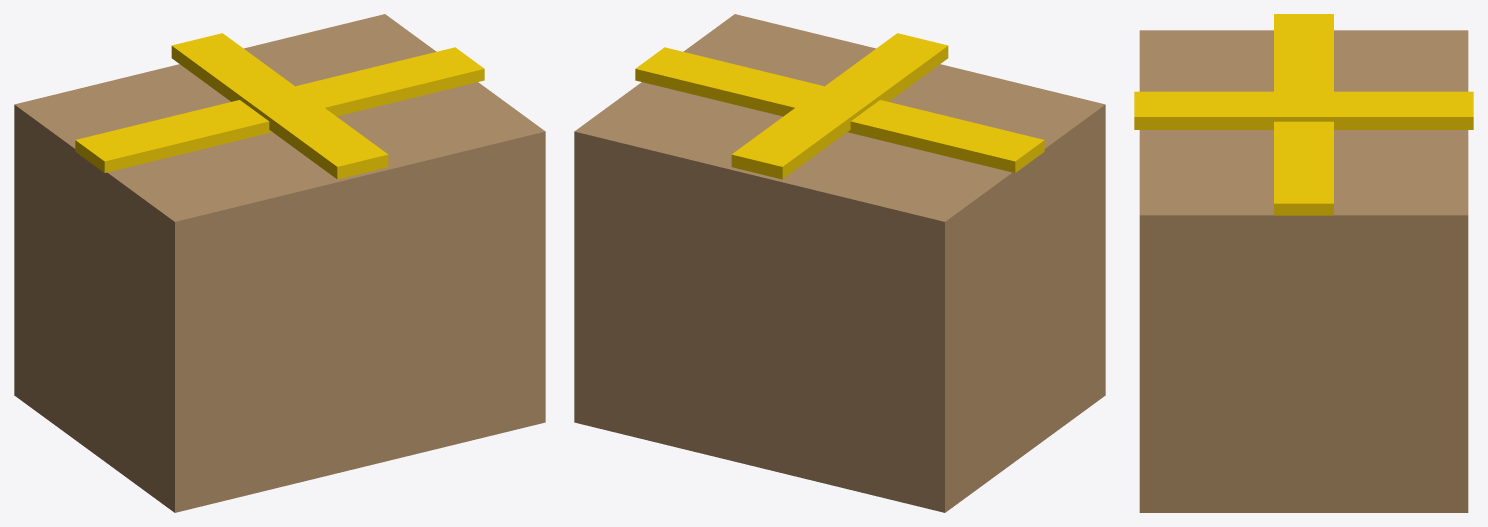
3 renders of one model, left to right at view 1: azimuth 30°, elevation 25°; view 2: azimuth 150°, elevation 25°; view 3: azimuth 270°, elevation 25°, orthographic. The views are drawn at different scales.
Visible parts, largest first — view 1: cardboard_body, tape_long, tape_cross; view 2: cardboard_body, tape_long, tape_cross; view 3: cardboard_body, tape_cross, tape_long.
Part boxes in pixels (x1,y1,x2,y2): cardboard_body: [14, 14, 545, 512]; tape_long: [75, 47, 484, 172]; tape_cross: [171, 33, 388, 179]; cardboard_body: [574, 14, 1105, 512]; tape_long: [635, 47, 1044, 172]; tape_cross: [731, 33, 948, 179]; cardboard_body: [1139, 30, 1468, 512]; tape_cross: [1134, 91, 1473, 129]; tape_long: [1274, 14, 1333, 215].
Bounding box in the file's own units: 0.41 × 0.3185 × 0.31.
